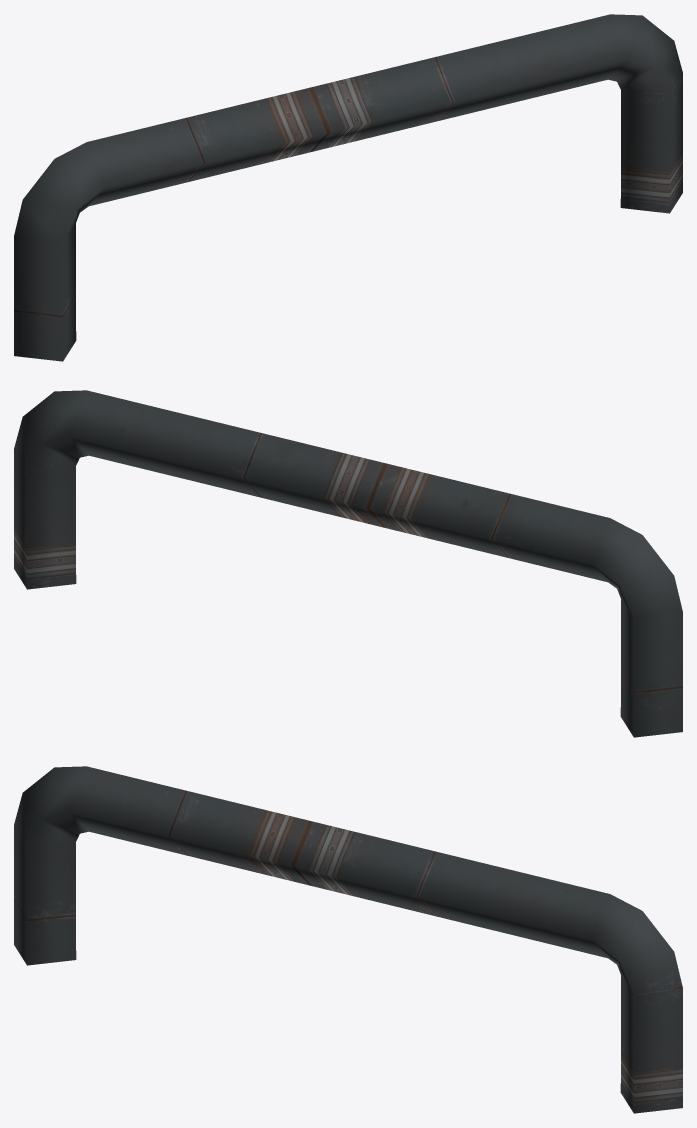
File: Wall3_Pipe1_L2.fbx
3 renders of one model, top to bottom at view 1: azimuth 30°, elevation 25°; view 2: azimuth 150°, elevation 25°; view 3: azimuth 330°, elevation 25°, orthographic.
Visible parts, largest first — view 1: Wall3_Pipe1_L2; view 2: Wall3_Pipe1_L2; view 3: Wall3_Pipe1_L2.
Part boxes in pixels (left/top/right/bottom): Wall3_Pipe1_L2: left=14, top=14, right=682, bottom=361; Wall3_Pipe1_L2: left=14, top=390, right=682, bottom=737; Wall3_Pipe1_L2: left=14, top=766, right=682, bottom=1113.
Bounding box in the file's own units: 322 × 90.28 × 29.93.
